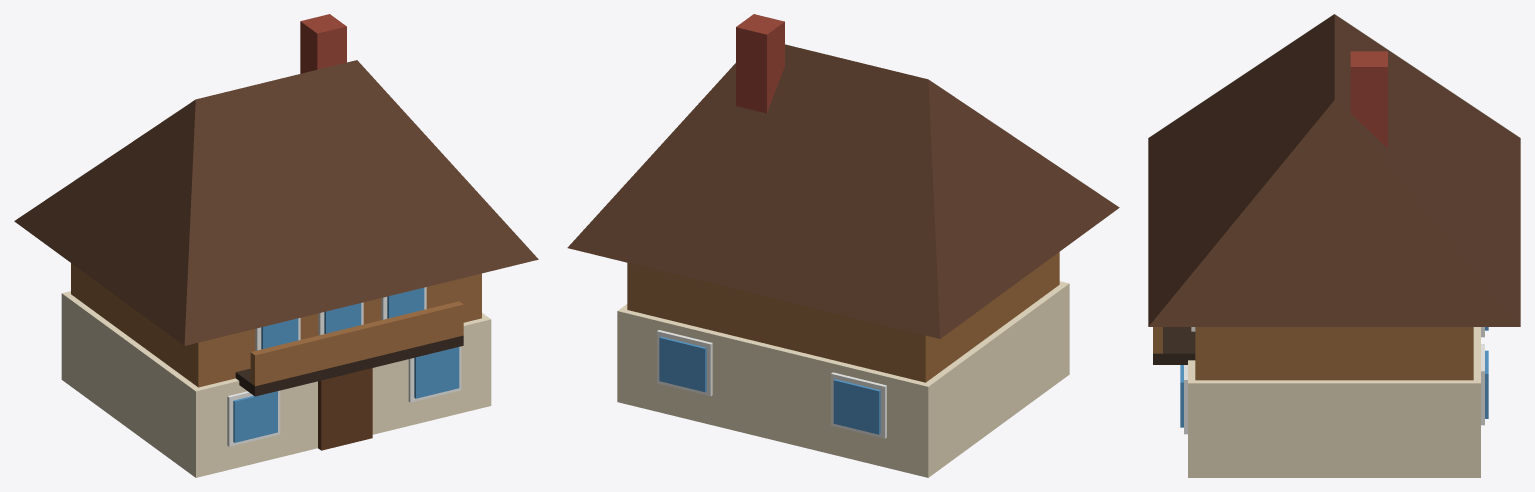
Rendered from 19_black_forest_1.obj.
3 views of the same model, side by side, from view 1: azimuth 30°, elevation 25°; view 2: azimuth 150°, elevation 25°; view 3: azimuth 270°, elevation 25° (orthographic). The views are drawn at different scales.
Parts seen in each view (by area): view 1: 19_black_forest_1; view 2: 19_black_forest_1; view 3: 19_black_forest_1.
Boxes of the visible parts, bbox=[...] form: 19_black_forest_1: bbox=[14, 14, 538, 477]; 19_black_forest_1: bbox=[567, 14, 1119, 477]; 19_black_forest_1: bbox=[1148, 14, 1520, 477].
Bounding box in the file's own units: 1.8 × 1.66 × 1.5.
